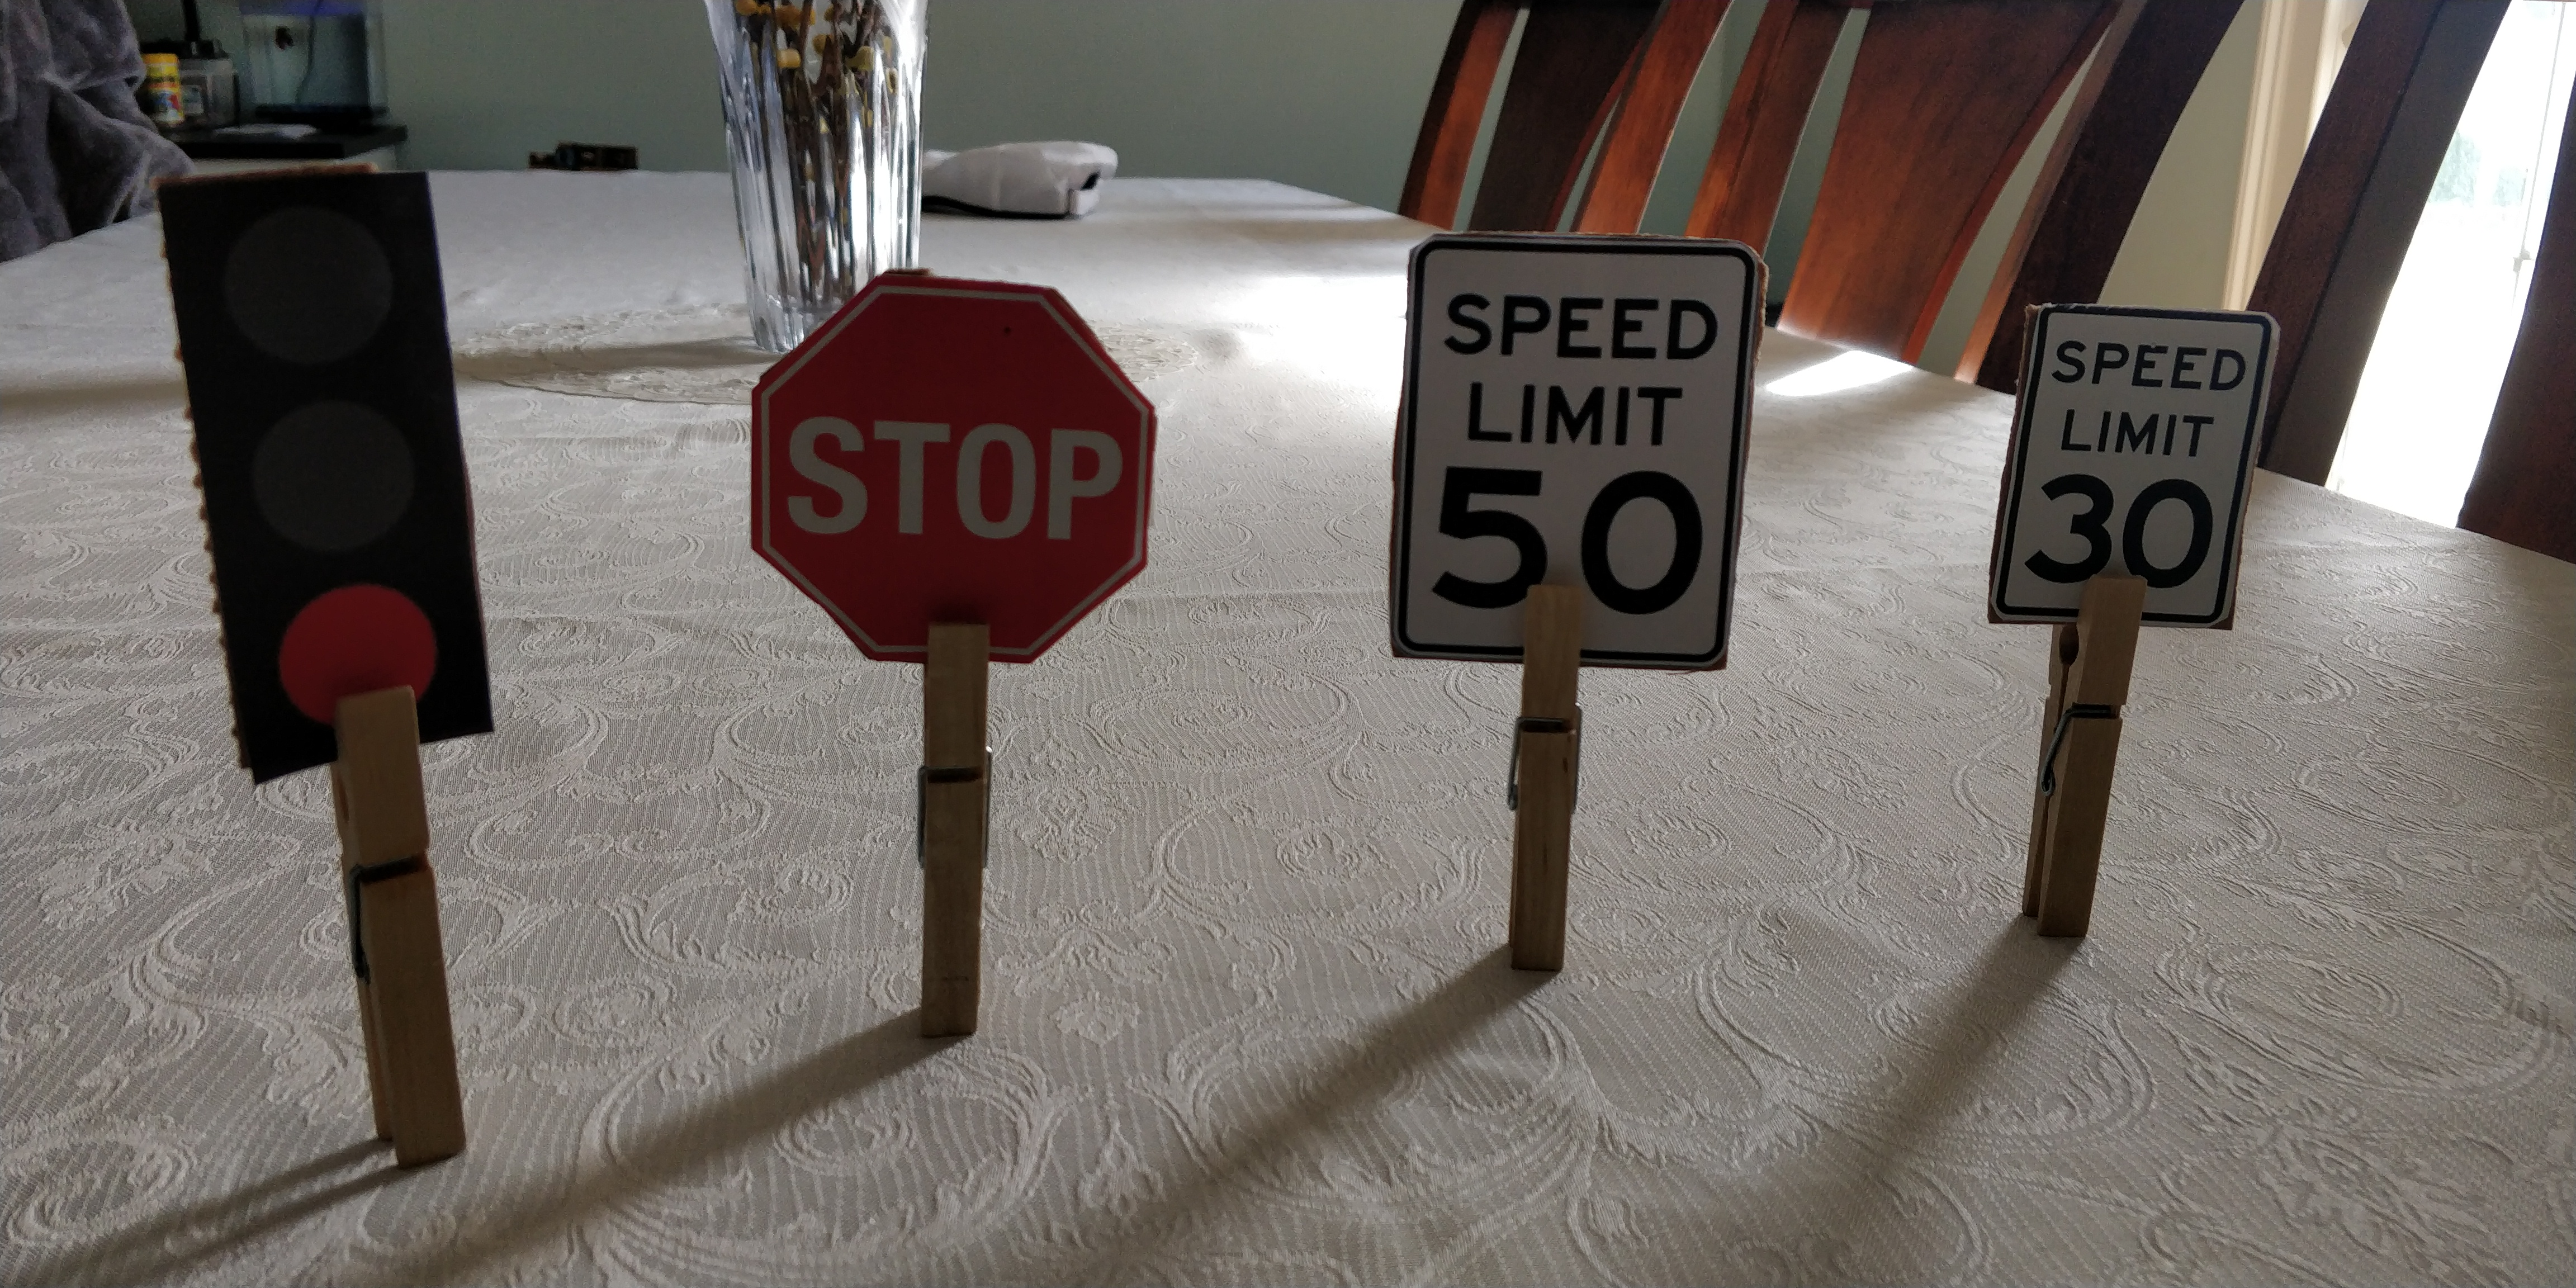Speed Limit 30: (1991, 307, 2280, 633)
Speed Limit 50: (1390, 232, 1766, 670)
Stop Sign: (749, 269, 1157, 664)
red light: (159, 166, 495, 782)
